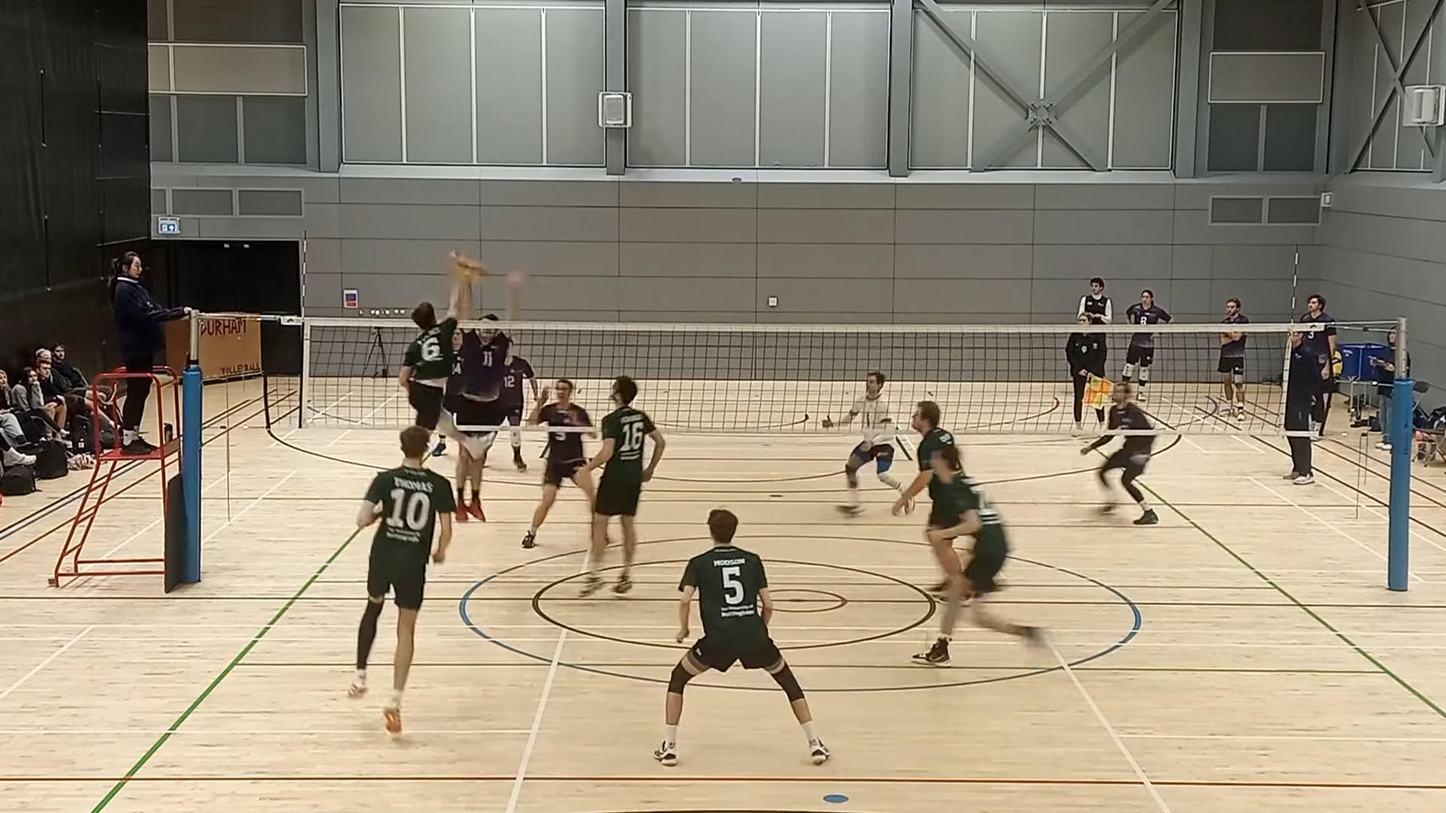Attack: (401, 256, 471, 455)
Block: (447, 228, 530, 534)
Player: (654, 509, 829, 766), (349, 426, 454, 733), (913, 444, 1041, 665), (581, 376, 666, 595), (521, 379, 594, 548), (821, 371, 901, 515), (1081, 384, 1158, 524), (892, 401, 954, 514), (500, 355, 538, 472)
